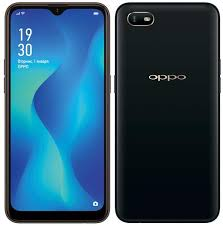oppo: (112, 1, 223, 222), (1, 1, 111, 222)
